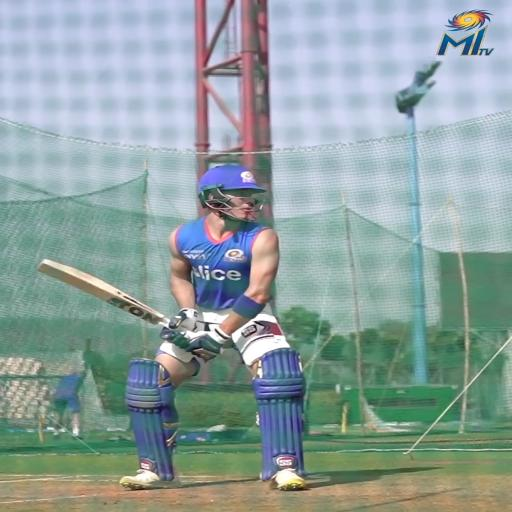Cricket bat: (38, 259, 169, 325)
